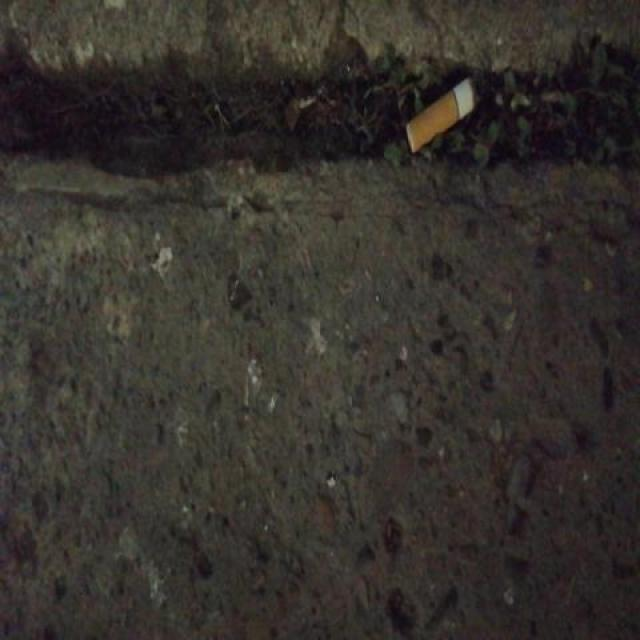non-organic waste: (401, 72, 484, 155)
